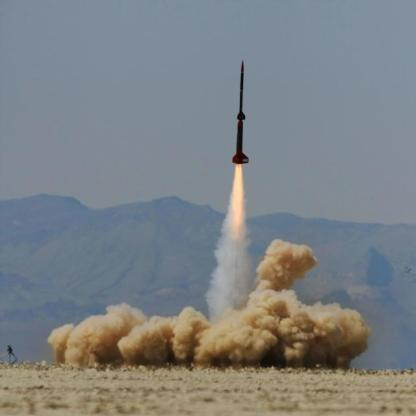MIL_TBM: (232, 60, 250, 163)
